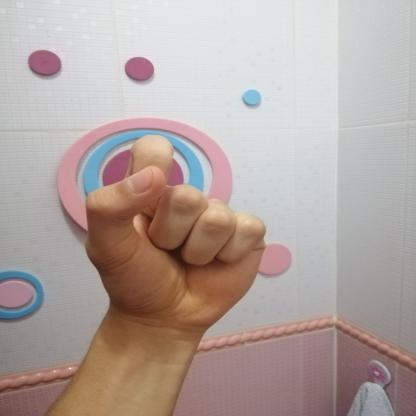FAA: (64, 124, 274, 340)
